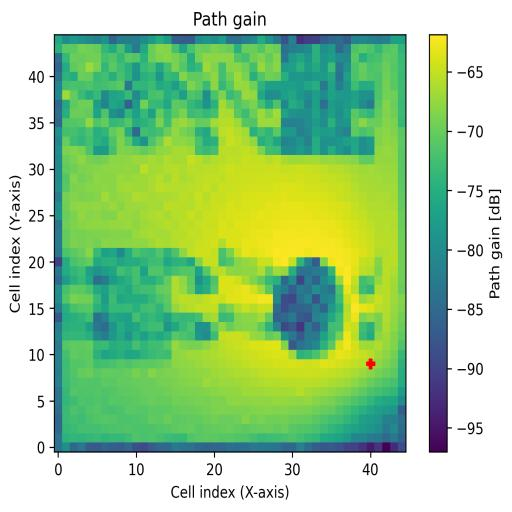Concrete: (282, 43, 374, 155)
Glass: (125, 50, 217, 155)
Metal: (265, 258, 344, 359)
Wood: (94, 247, 172, 359)
